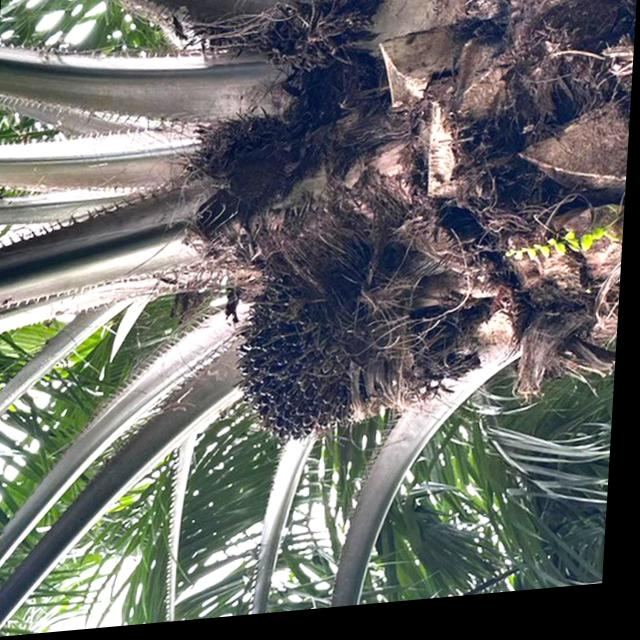unripe: (230, 239, 401, 455)
